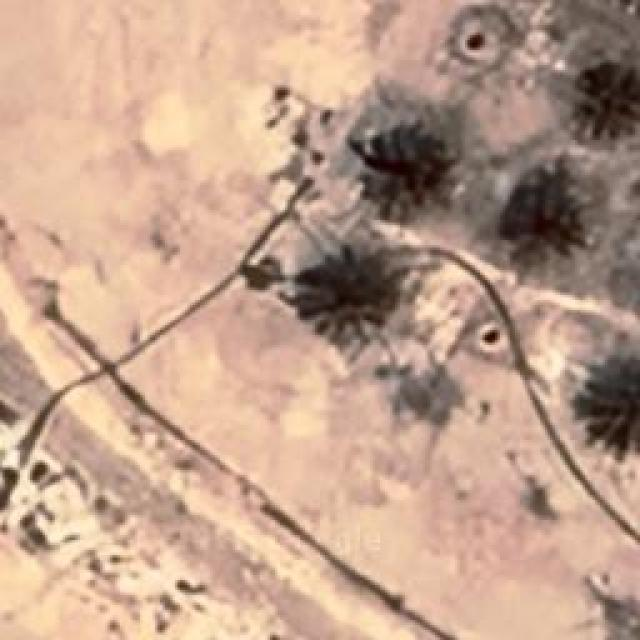PalmTree: (494, 150, 592, 268), (284, 250, 398, 342), (355, 116, 455, 219), (572, 28, 638, 140), (578, 342, 638, 456)
